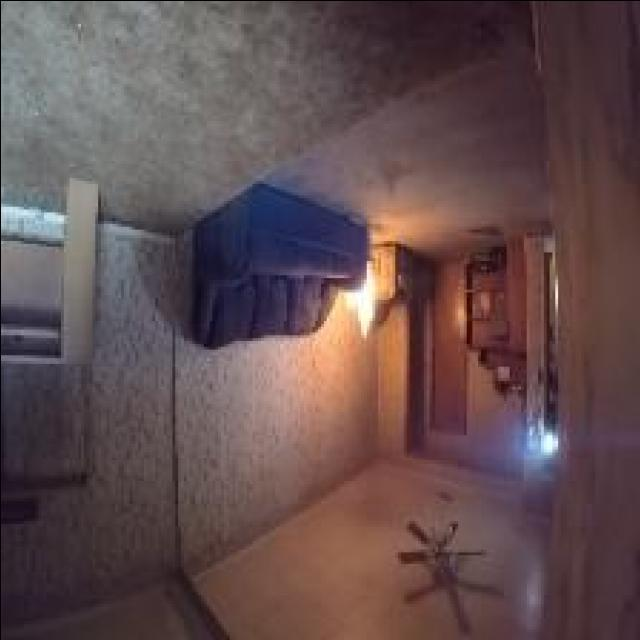Fire: (342, 262, 374, 338)
